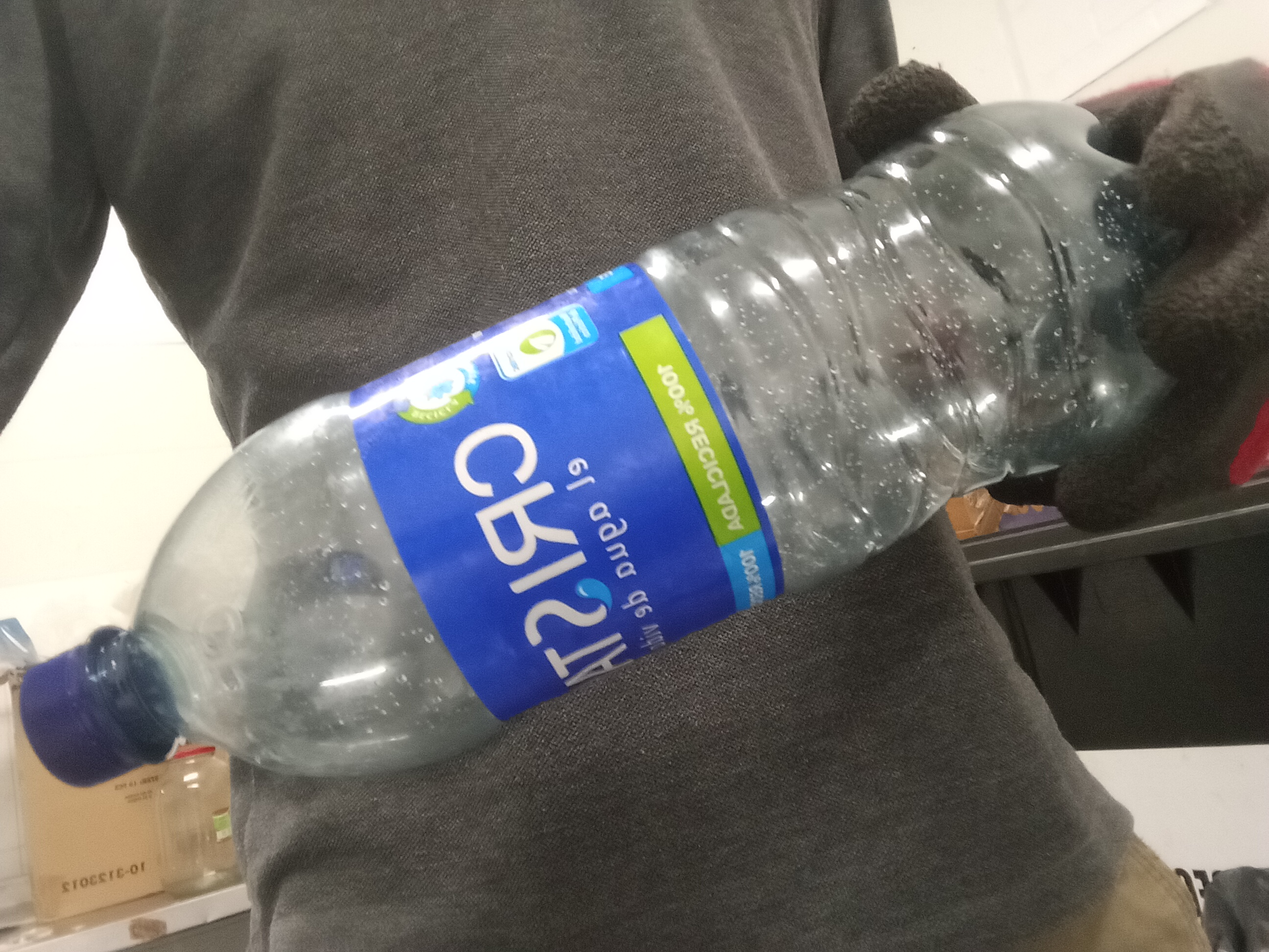Plastico: (20, 104, 1175, 790)
